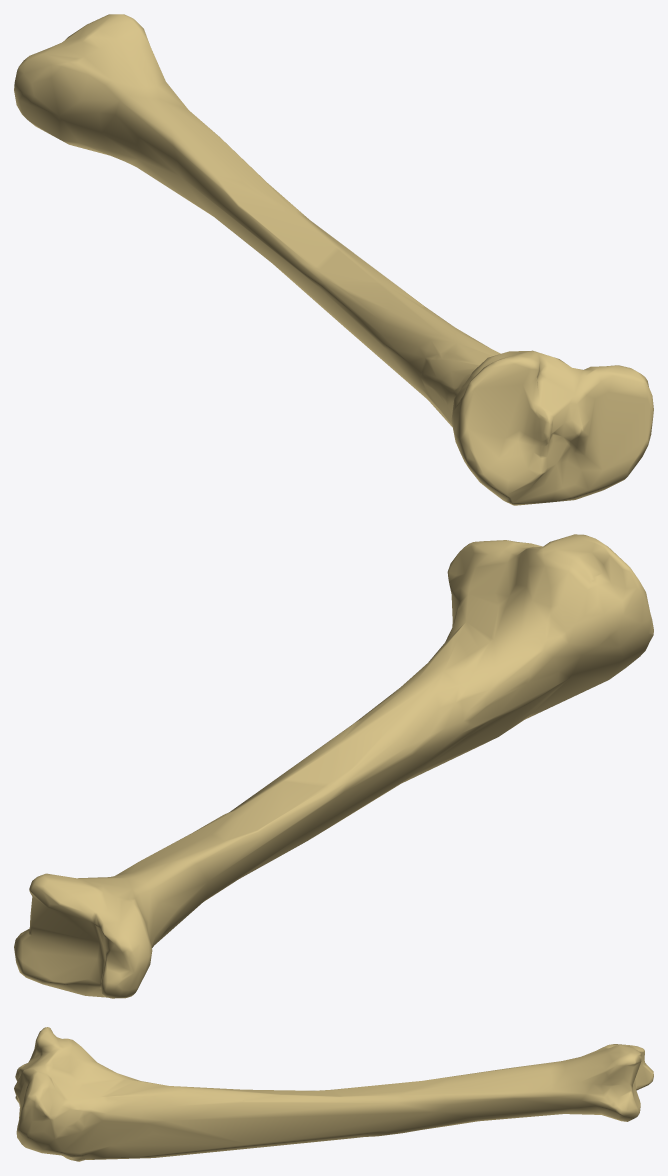
3 views of the same model, one above another, from view 1: azimuth 30°, elevation 25°; view 2: azimuth 150°, elevation 25°; view 3: azimuth 270°, elevation 25° (orthographic). The views are drawn at different scales.
Visible parts, largest first — view 1: 左侧胫骨; view 2: 左侧胫骨; view 3: 左侧胫骨.
Part boxes in pixels (x1=…): 左侧胫骨: x1=14, y1=14, x2=653, y2=505; 左侧胫骨: x1=14, y1=534, x2=653, y2=998; 左侧胫骨: x1=14, y1=1027, x2=653, y2=1161.
Size of the model in its own units: 0.1156 by 0.1002 by 0.5274.
